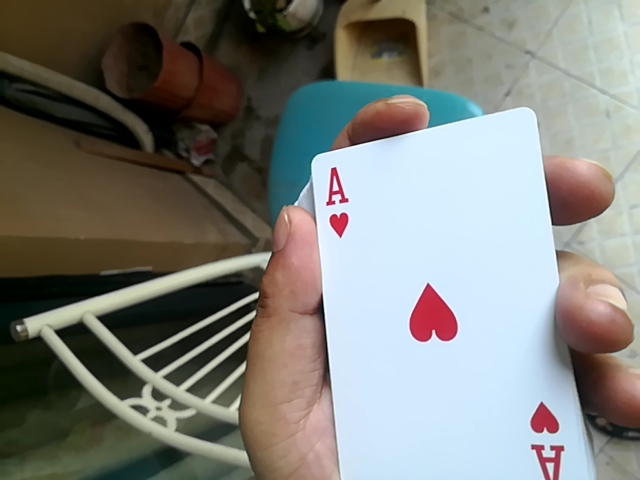hx a: (301, 134, 610, 478)
